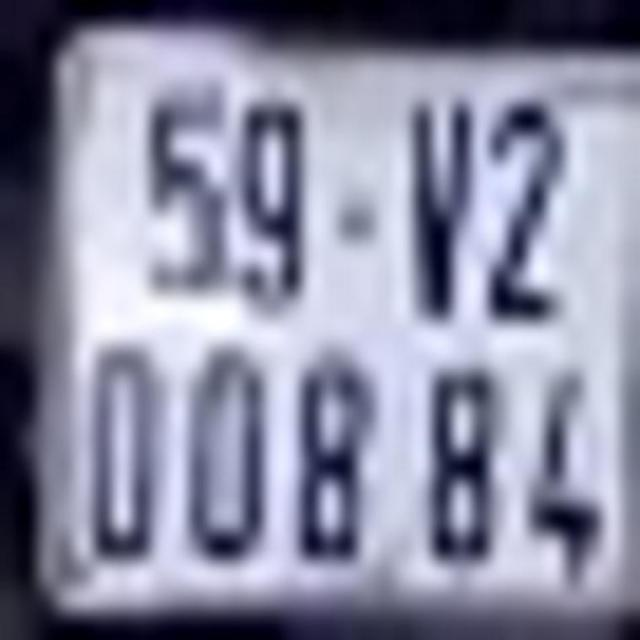0: (184, 335, 274, 571), (80, 329, 164, 562)
2: (486, 88, 581, 335)
4: (535, 359, 613, 586)
5: (142, 93, 226, 328)
8: (290, 330, 374, 572), (427, 358, 504, 572)
9: (234, 91, 313, 327)
V: (399, 89, 477, 329)
